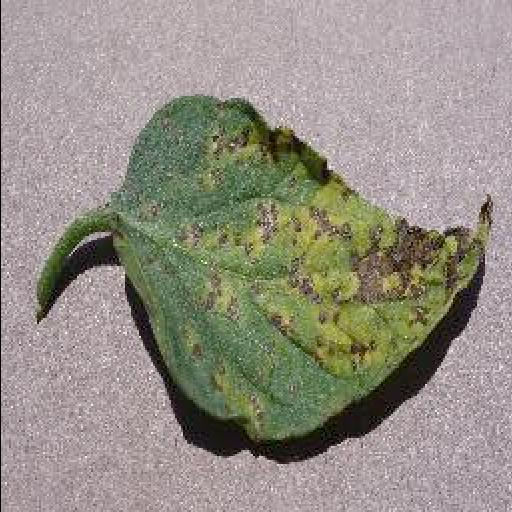disease_tomato: (114, 92, 498, 436)
